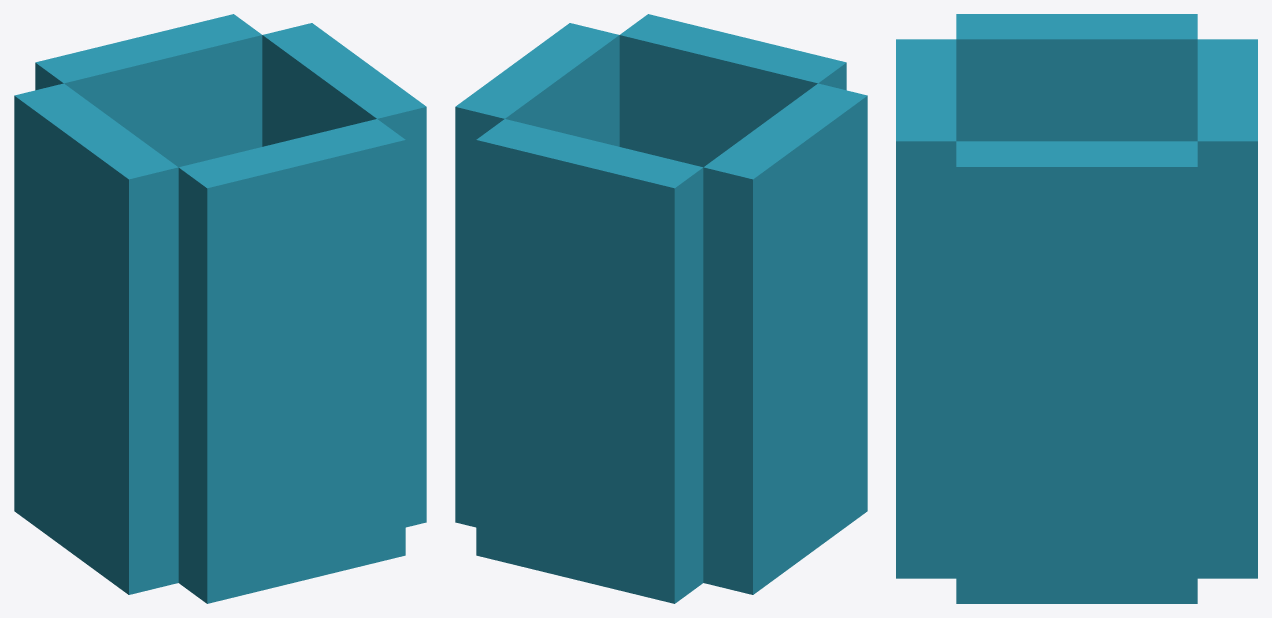
The picture shows the model from 3 angles, left to right: view 1: azimuth 30°, elevation 25°; view 2: azimuth 150°, elevation 25°; view 3: azimuth 270°, elevation 25°; orthographic projection. The views are drawn at different scales.
Visible parts, largest first — view 1: 92; view 2: 92; view 3: 92.
Part boxes in pixels (left/top/right/bottom): 92: left=14, top=14, right=426, bottom=603; 92: left=455, top=14, right=867, bottom=603; 92: left=896, top=14, right=1257, bottom=603.
Size of the model in its own units: 60 by 80 by 60.
Materials: 1 (1 with a texture image).
